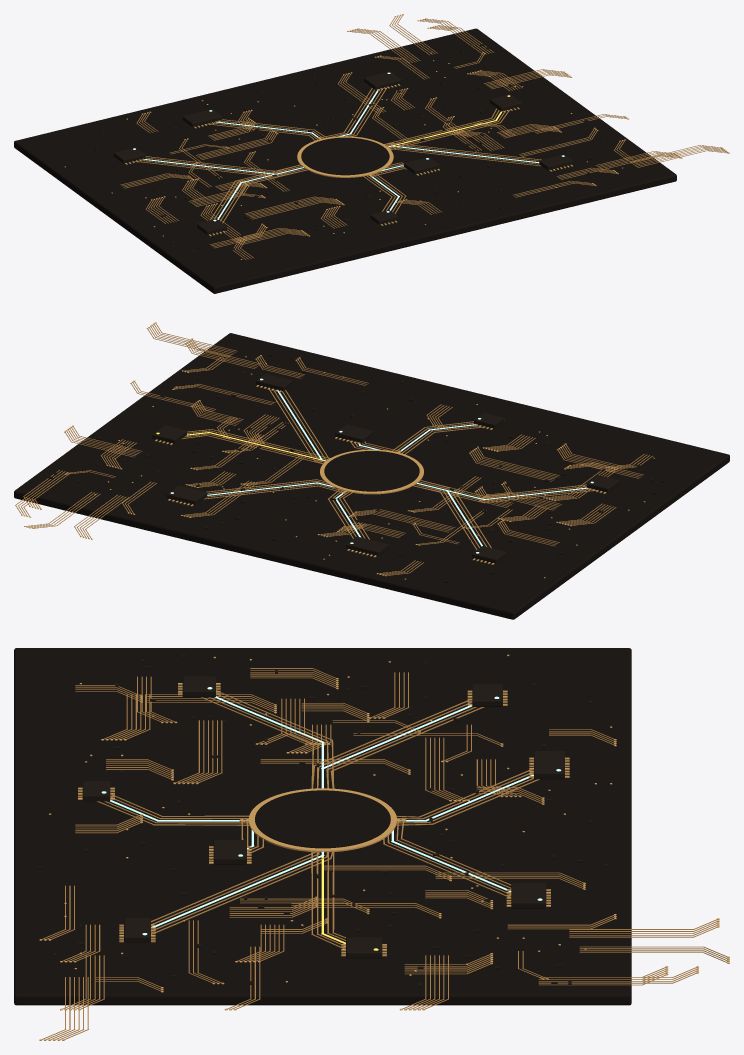
File: board.glb
The picture shows the model from 3 angles, top to bottom: view 1: azimuth 30°, elevation 25°; view 2: azimuth 150°, elevation 25°; view 3: azimuth 270°, elevation 25°; orthographic projection. The views are drawn at different scales.
Visible parts, largest first — view 1: Board, Traces, CentreInset, LiveTraces, Parts, Pads, CentrePad, Sub2; view 2: Board, Traces, CentreInset, LiveTraces, Parts, Pads, CentrePad, Sub2, Sub3; view 3: Board, Traces, CentreInset, LiveTraces, Parts, CentrePad, Pads, Sub3, Sub2, Sub7, Sub4, Sub1 (+2 smaller).
Part boxes in pixels (left/top/right/bottom): Board: left=14, top=28, right=676, bottom=293; Traces: left=120, top=15, right=727, bottom=259; CentreInset: left=301, top=137, right=389, bottom=175; LiveTraces: left=141, top=89, right=539, bottom=219; Parts: left=95, top=43, right=614, bottom=252; Pads: left=64, top=14, right=729, bottom=259; CentrePad: left=297, top=136, right=393, bottom=177; Sub2: left=182, top=109, right=221, bottom=127; Board: left=14, top=333, right=729, bottom=619; Traces: left=15, top=323, right=652, bottom=575; CentreInset: left=324, top=451, right=419, bottom=491; LiveTraces: left=207, top=390, right=588, bottom=546; Parts: left=48, top=354, right=665, bottom=582; Pads: left=21, top=322, right=654, bottom=579; CentrePad: left=320, top=449, right=423, bottom=494; Sub2: left=346, top=536, right=388, bottom=555; Sub3: left=166, top=485, right=207, bottom=504; Board: left=14, top=648, right=631, bottom=1005; Traces: left=42, top=668, right=727, bottom=1039; CentreInset: left=255, top=790, right=390, bottom=848; LiveTraces: left=110, top=696, right=533, bottom=927; Parts: left=36, top=654, right=607, bottom=987; CentrePad: left=248, top=788, right=396, bottom=852; Pads: left=39, top=654, right=729, bottom=1040; Sub3: left=511, top=882, right=546, bottom=908; Sub2: left=534, top=751, right=564, bottom=779; Sub7: left=213, top=840, right=246, bottom=864; Sub4: left=346, top=937, right=382, bottom=958; Sub1: left=182, top=676, right=215, bottom=697.
Size of the model in its own units: 45.27 by 1 by 34.77.
